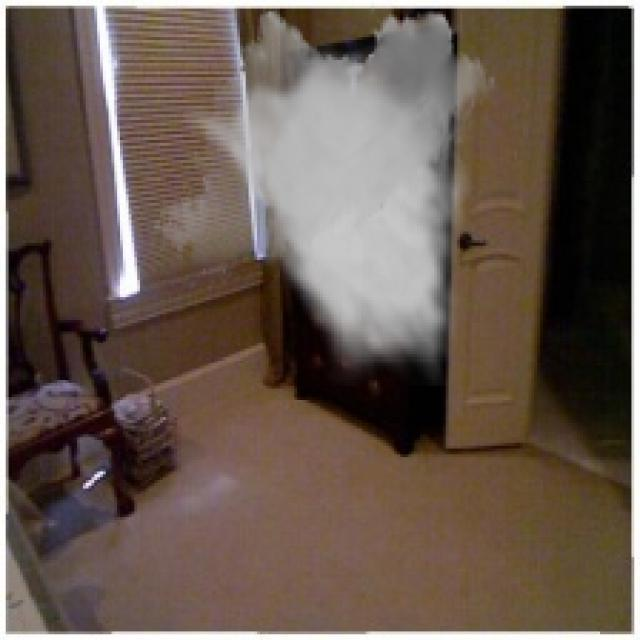Smoke: (152, 0, 497, 386)
